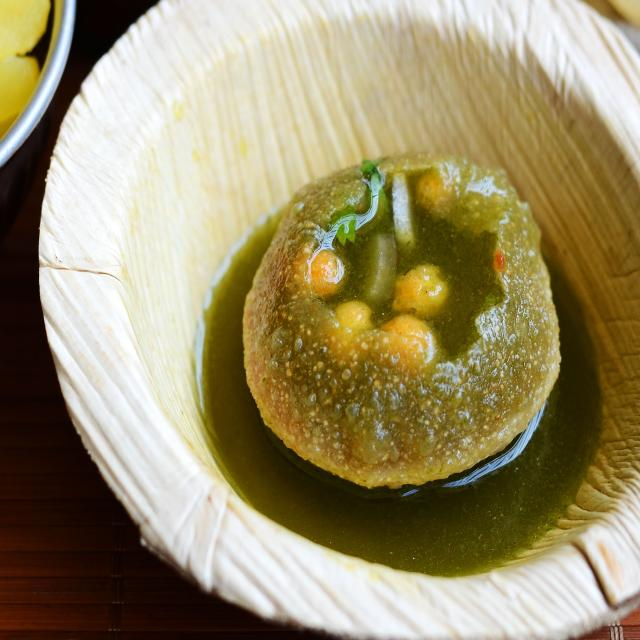paani_puri: (228, 136, 596, 600)
